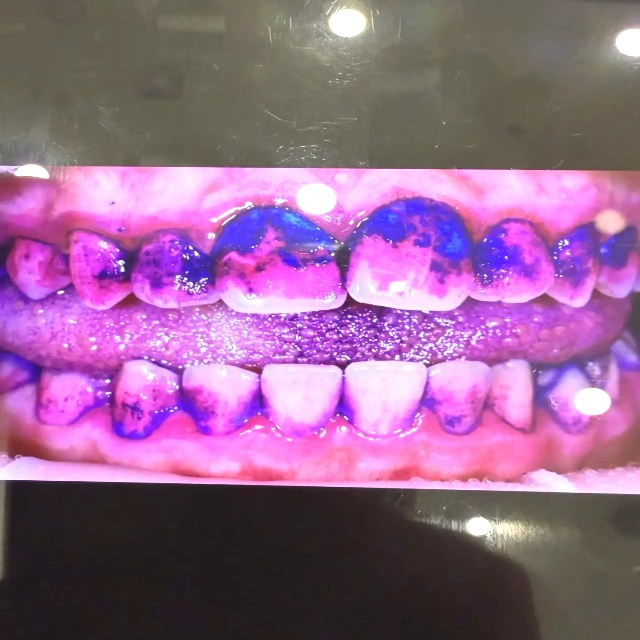clean_tooth: (265, 0, 399, 74), (482, 518, 550, 550), (594, 24, 635, 70)
plaque: (0, 172, 639, 489), (566, 467, 639, 487)
